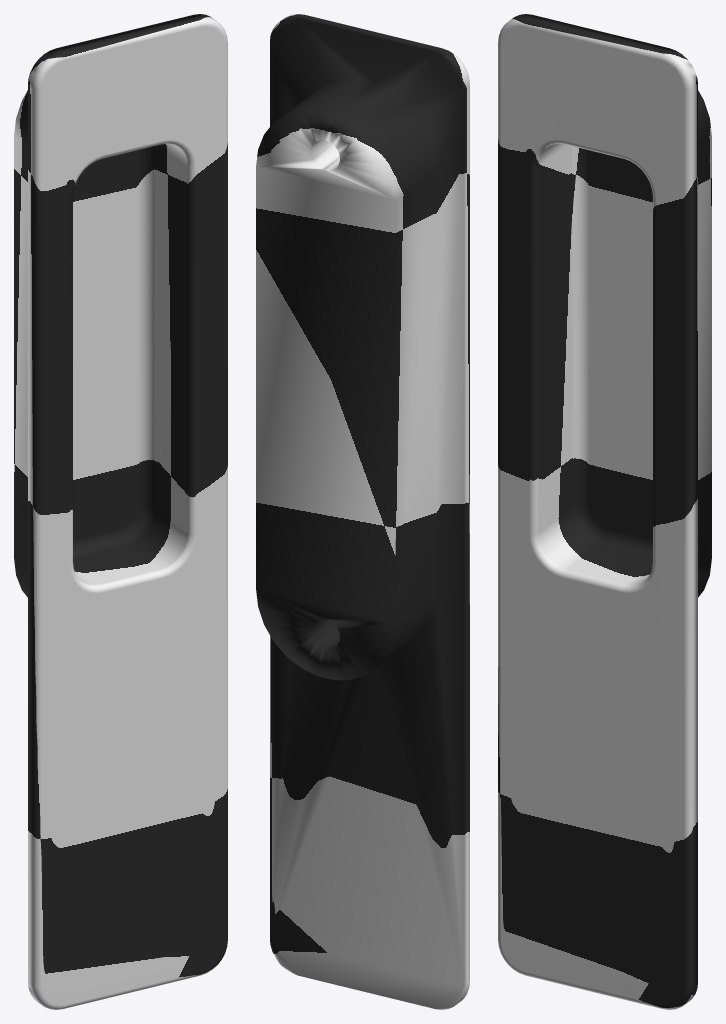
File: 0627778_heat_result.glb
The picture shows the model from 3 angles, left to right: view 1: azimuth 30°, elevation 25°; view 2: azimuth 150°, elevation 25°; view 3: azimuth 330°, elevation 25°; orthographic projection.
Visible parts, largest first — view 1: parameterized_mesh; view 2: parameterized_mesh; view 3: parameterized_mesh.
Boxes of the visible parts, x1,y1,x2,y2 form: parameterized_mesh: (14, 14, 227, 1009); parameterized_mesh: (256, 14, 469, 1009); parameterized_mesh: (498, 14, 711, 1009).
Size of the model in its own units: 34 by 160 by 15.
1 material, 1 textured.
